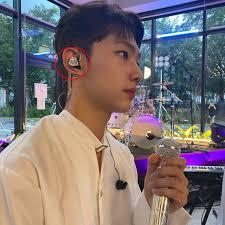earphone: (66, 56, 81, 71)
